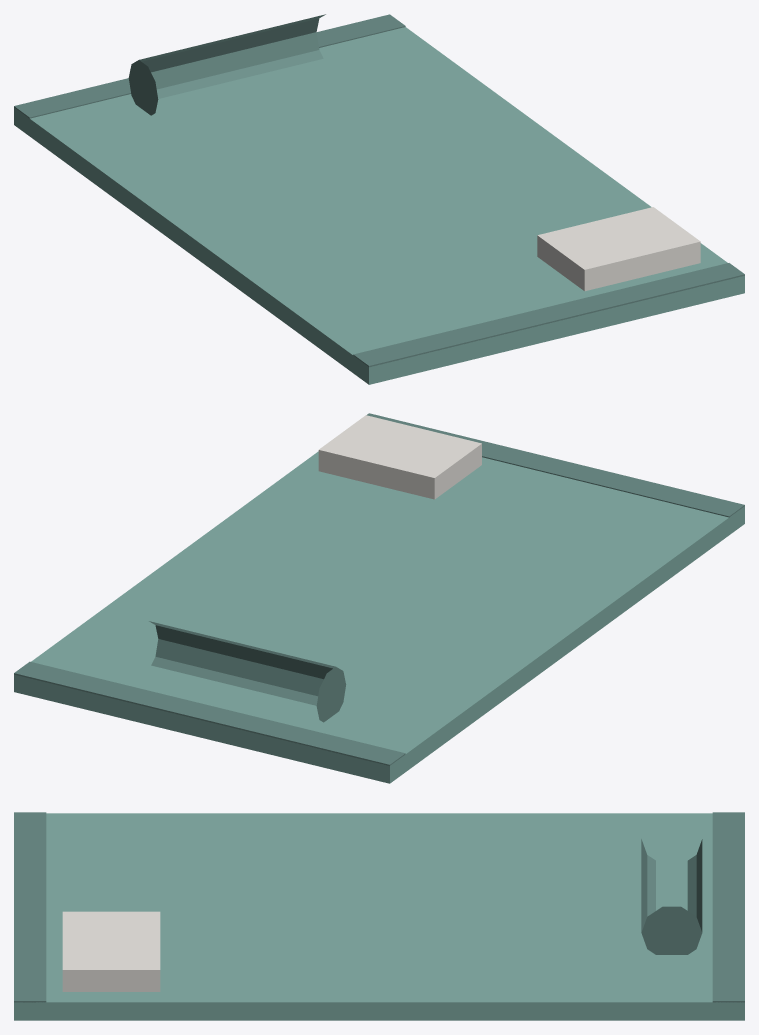
The model's file is recovery_mat.glb.
The picture shows the model from 3 angles, top to bottom: view 1: azimuth 30°, elevation 25°; view 2: azimuth 150°, elevation 25°; view 3: azimuth 270°, elevation 25°; orthographic projection. The views are drawn at different scales.
Visible parts, largest first — view 1: mat; view 2: mat; view 3: mat.
Part boxes in pixels (x1=…): mat: x1=14, y1=14, x2=744, y2=384; mat: x1=14, y1=413, x2=744, y2=783; mat: x1=14, y1=812, x2=744, y2=1020.
Size of the model in its own units: 1.1 by 0.1813 by 1.8.
